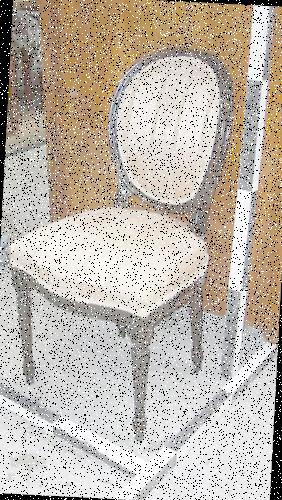Silla: (0, 39, 239, 451)
